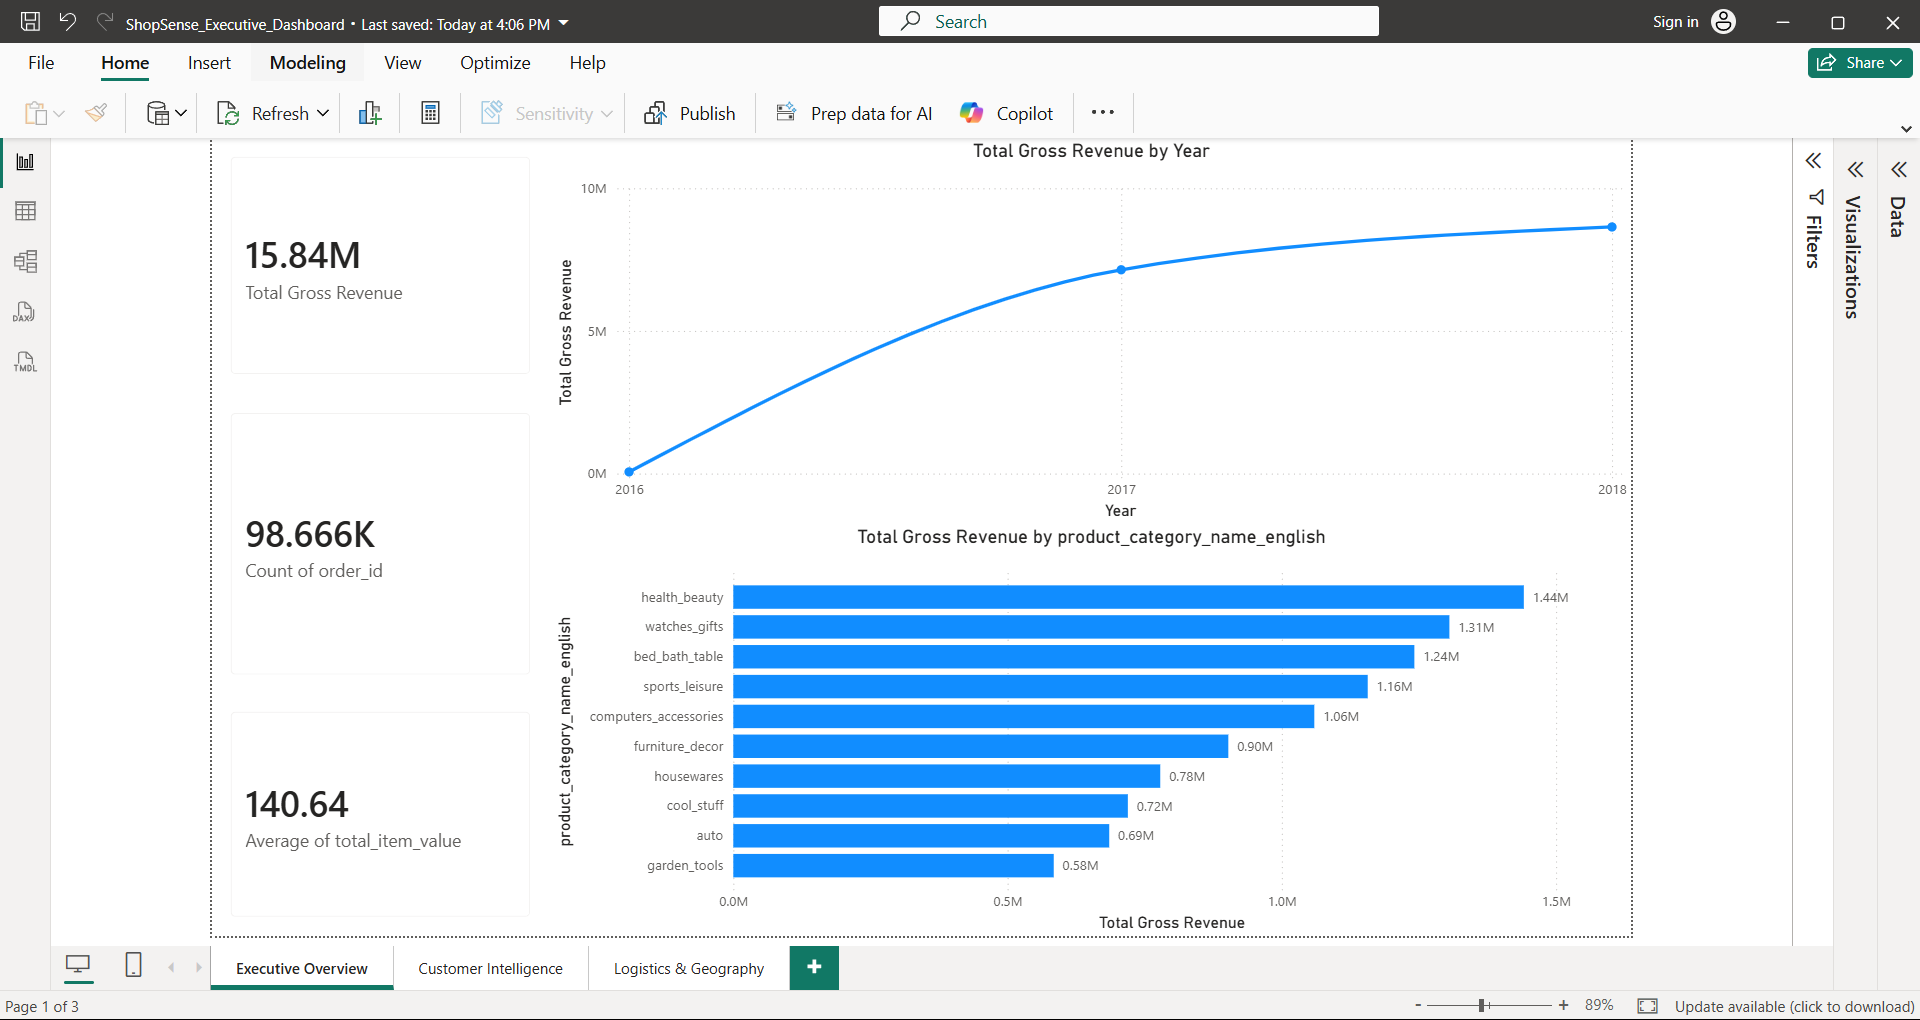

The dashboard page shown, as its layout file describes it:
{"tool":"powerbi","page":{"name":"Executive Overview","canvas":[1280,720],"ordinal":0},"visuals":[{"type":"cardVisual","fields":{"Data":["vw_order_details.Total Gross Revenue"]},"box":[0,0,304.6,230.5],"z":0},{"type":"cardVisual","fields":{"Data":["Count(vw_order_details.order_id)"]},"box":[0,230.5,304.6,270.3],"z":1},{"type":"cardVisual","fields":{"Data":["Avg(vw_order_details.total_item_value)"]},"box":[0,500.9,304.6,219.6],"z":2},{"type":"lineChart","fields":{"Category":["vw_order_details.order_purchase_timestamp.Variation.Date Hierarchy.Year","vw_order_details.order_purchase_timestamp.Variation.Date Hierarchy.Month"],"Y":["vw_order_details.Total Gross Revenue"]},"box":[305.2,1.5,975.1,347.9],"z":3},{"type":"clusteredBarChart","fields":{"Category":["vw_order_details.product_category_name_english"],"Y":["vw_order_details.Total Gross Revenue"]},"box":[305.1,349.6,975.1,371.2],"z":4}]}

Visuals, with their boxes on the page's 1280x720 design canvas (x1, y1, x2, y2). These are canvas units, not pixel positions in the 1920x1020 screenshot, which may show the page scaled, cropped or inside an application window:
cardVisual - vw_order_details.Total Gross Revenue: bbox(0, 0, 305, 230)
cardVisual - Count(vw_order_details.order_id): bbox(0, 230, 305, 501)
cardVisual - Avg(vw_order_details.total_item_value): bbox(0, 501, 305, 720)
lineChart - vw_order_details.order_purchase_timestamp.Variation.Date Hierarchy.Year x vw_order_details.order_purchase_timestamp.Variation.Date Hierarchy.Month: bbox(305, 2, 1280, 349)
clusteredBarChart - vw_order_details.product_category_name_english x vw_order_details.Total Gross Revenue: bbox(305, 350, 1280, 721)
